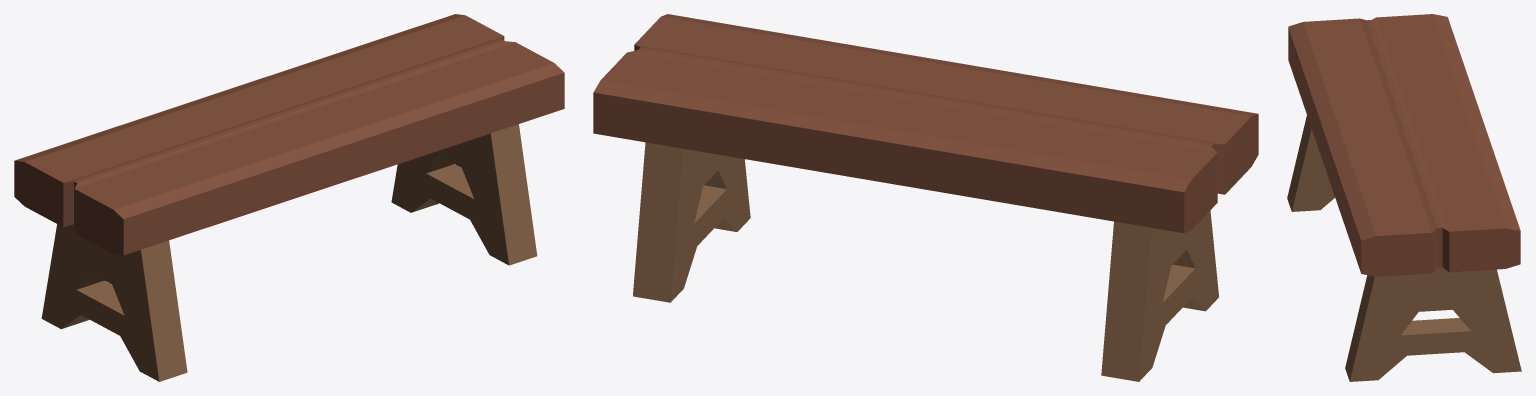
The model's file is market-stool1.fbx.
3 renders of one model, left to right at view 1: azimuth 30°, elevation 25°; view 2: azimuth 150°, elevation 25°; view 3: azimuth 270°, elevation 25°, orthographic. The views are drawn at different scales.
Parts seen in each view (by area): view 1: Cube.594; view 2: Cube.594; view 3: Cube.594.
Part boxes in pixels (x1,y1,x2,y2): Cube.594: [14, 14, 564, 381]; Cube.594: [593, 14, 1258, 381]; Cube.594: [1287, 14, 1521, 381].
Bounding box in the file's own units: 273 × 91.36 × 121.
